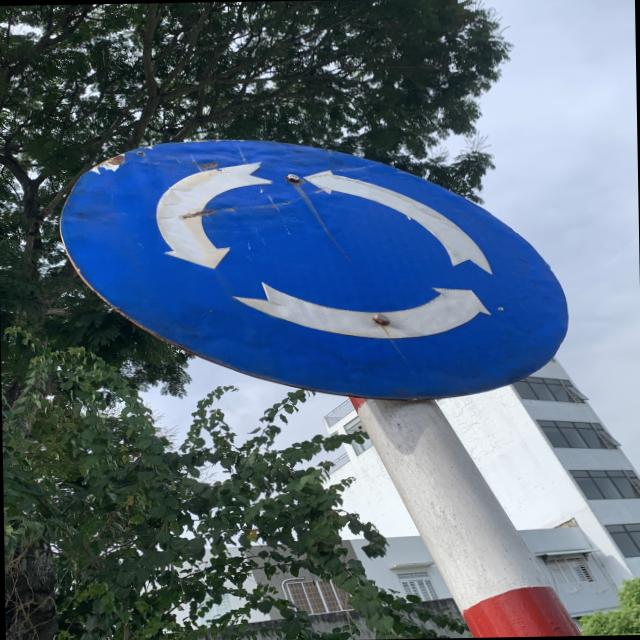Xe_Bus: (59, 131, 571, 404)
